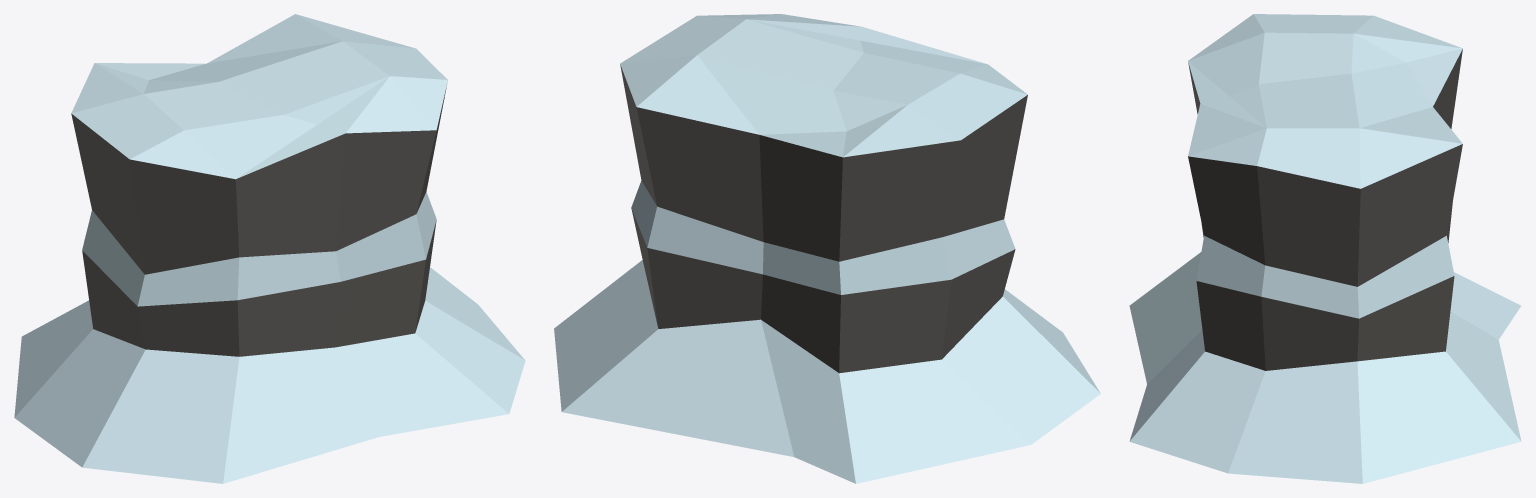
Rendered from SM_Env_Western_Butte_01_Snow.fbx.
3 views of the same model, side by side, from view 1: azimuth 30°, elevation 25°; view 2: azimuth 150°, elevation 25°; view 3: azimuth 270°, elevation 25° (orthographic). The views are drawn at different scales.
Visible parts, largest first — view 1: SM_Env_Western_Butte_01_Snow; view 2: SM_Env_Western_Butte_01_Snow; view 3: SM_Env_Western_Butte_01_Snow.
Part boxes in pixels (x1,y1,x2,y2): SM_Env_Western_Butte_01_Snow: [14, 14, 525, 483]; SM_Env_Western_Butte_01_Snow: [554, 14, 1100, 483]; SM_Env_Western_Butte_01_Snow: [1129, 14, 1521, 483].
Bounding box in the file's own units: 133 × 81.38 × 99.58.
Materials: 1 (1 with a texture image).
